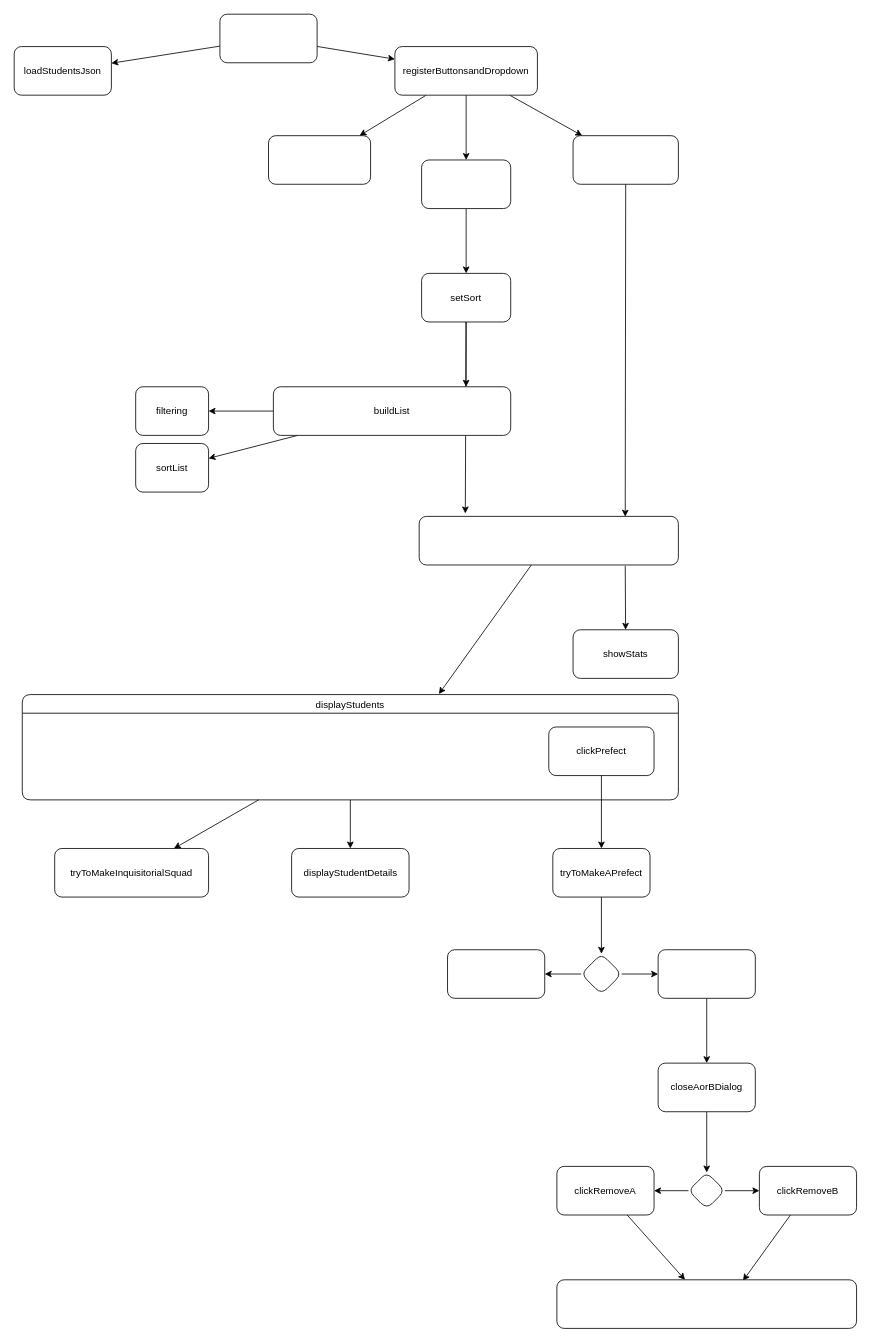
This 871x1343 diagram has some shape labels left out. The shapes that lost their labels are listed below. From the top down, each one's centre as x and y in pixels, then its label:
At (x=268, y=38): "init".
At (x=319, y=159): "selectFilter".
At (x=625, y=159): "searchForStudents".
At (x=466, y=184): "selectSort".
At (x=548, y=540): "displayList".
At (x=496, y=973): "makePrefect".
At (x=706, y=973): "removeAorB".
At (x=706, y=1303): "removePrefect".
